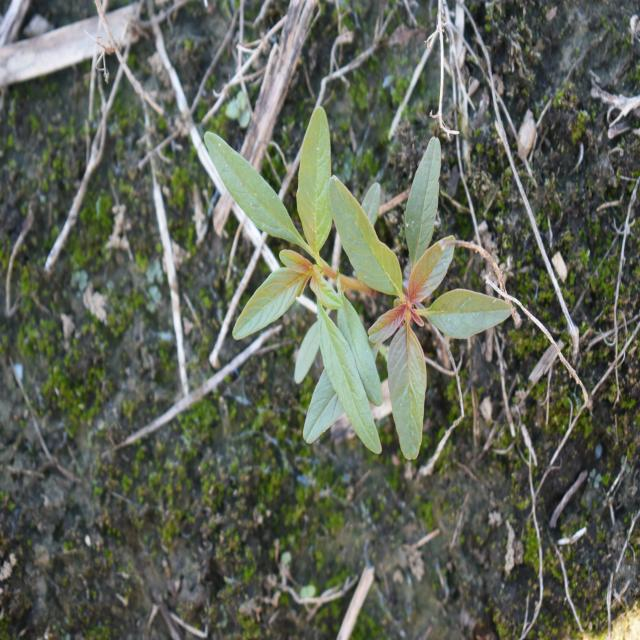Waterhemp: (202, 103, 515, 465)
